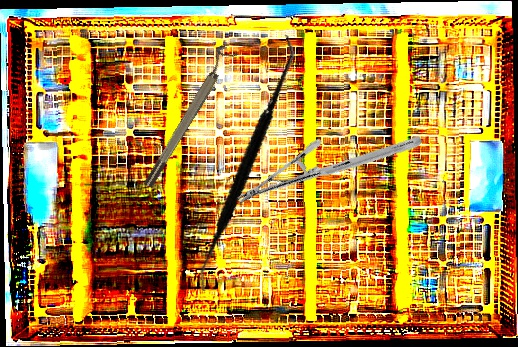Fixation Ring: (135, 43, 239, 190)
Needle Holder: (235, 74, 424, 266)
Spatula Surgical: (153, 33, 337, 293)
